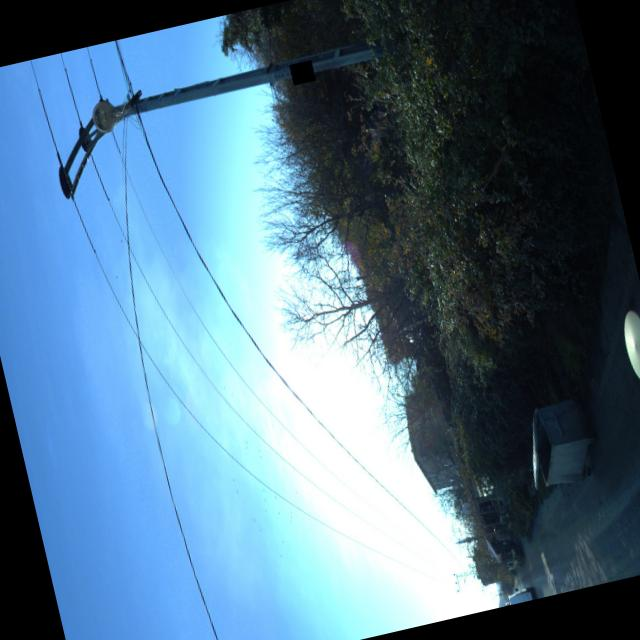Utility Pole Information Plate: (289, 58, 315, 84)
